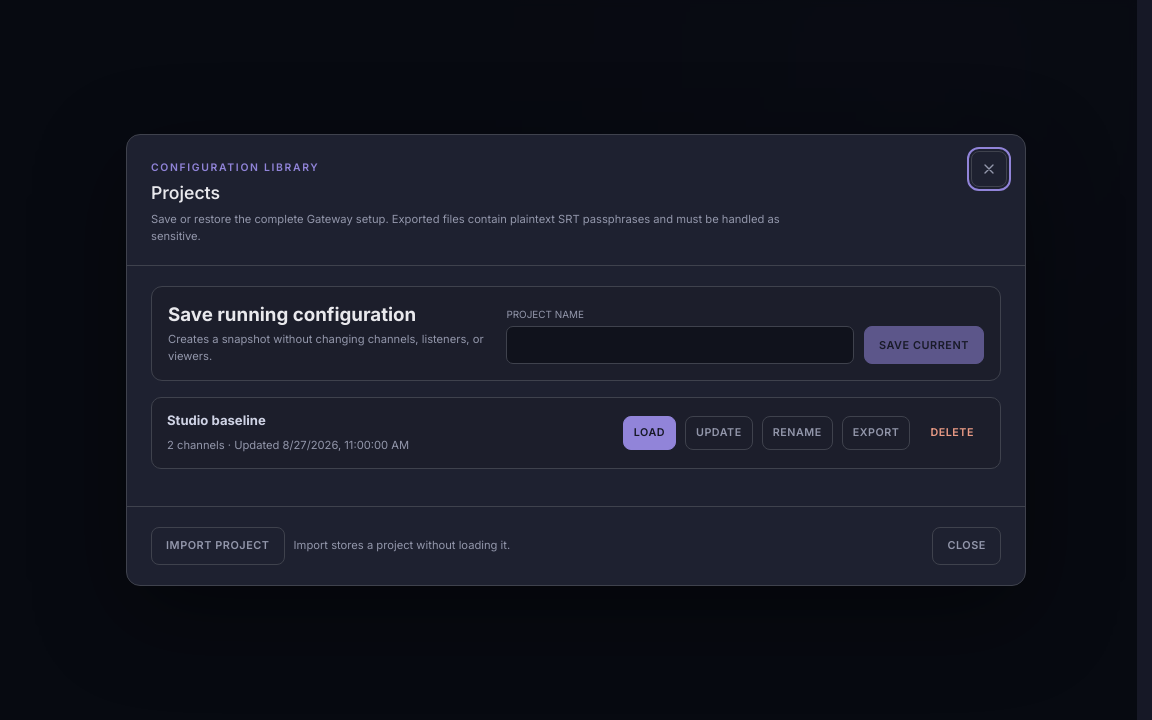
ProjectsDialog › surfaces a failed load after the backend restores the previous configuration
Step 1. Click the button "Load" → coordinates (649, 433), box left=623, top=416, right=676, bottom=450
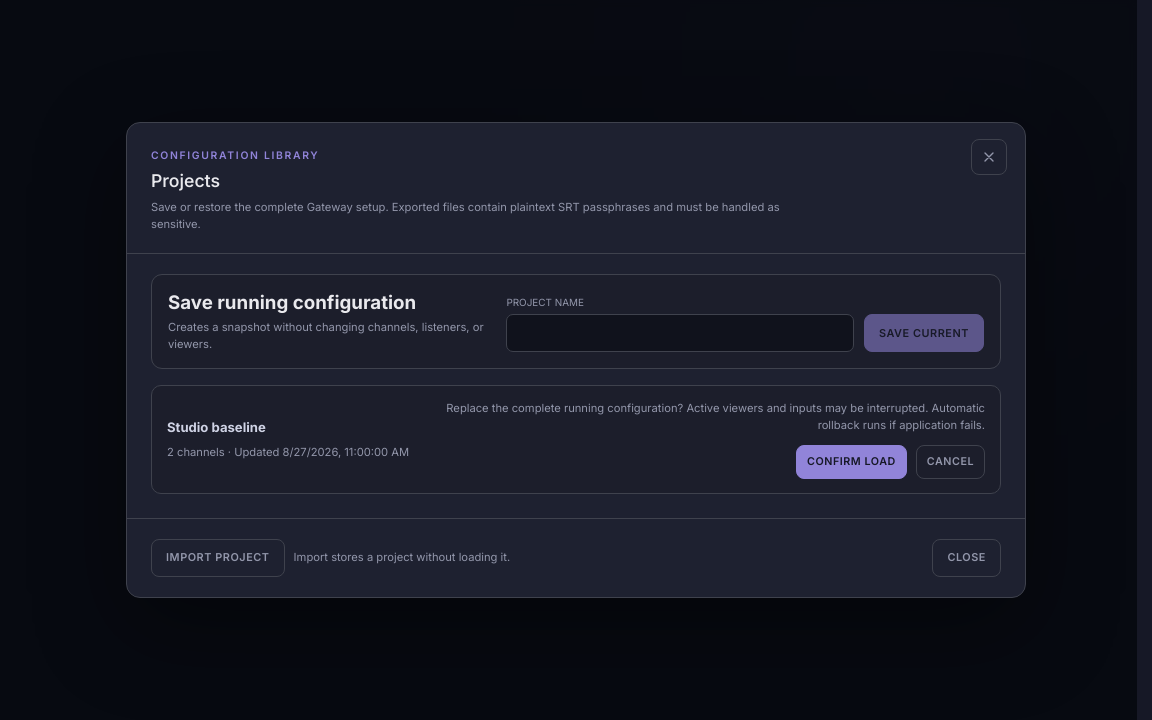
Step 2. Click the button "Confirm load" → coordinates (851, 462), box left=796, top=445, right=907, bottom=479
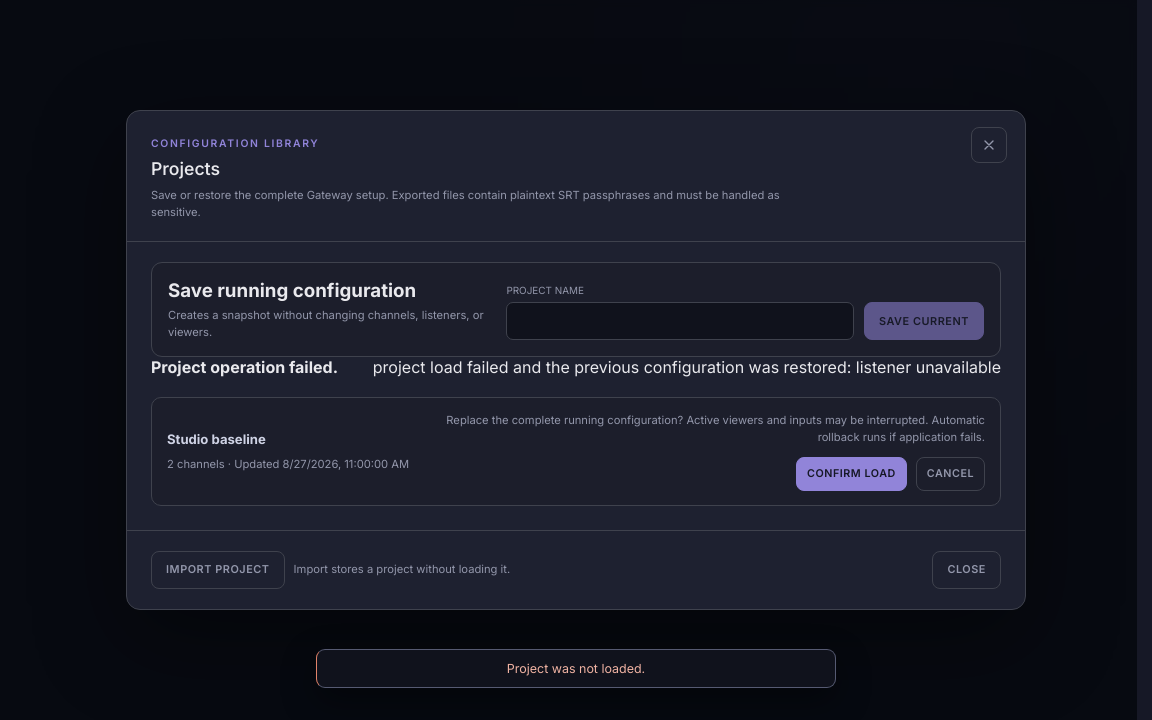
Result: the text "previous configuration was restored: listener unavailable" is shown at left=373, top=357, right=1001, bottom=377
